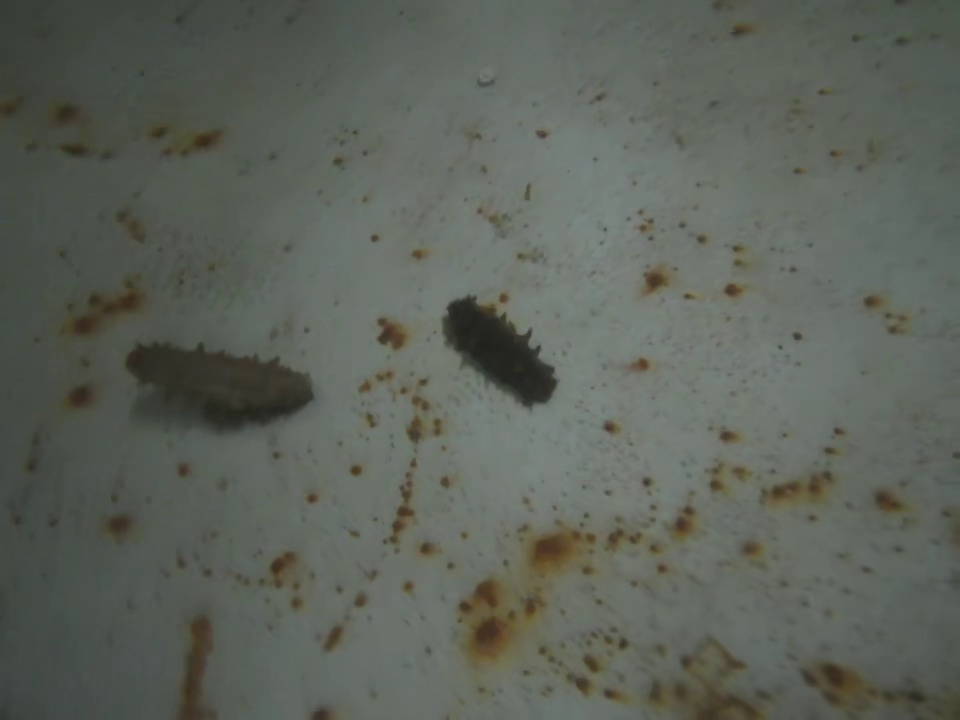seacucumber: (126, 338, 320, 415), (444, 291, 559, 403)
